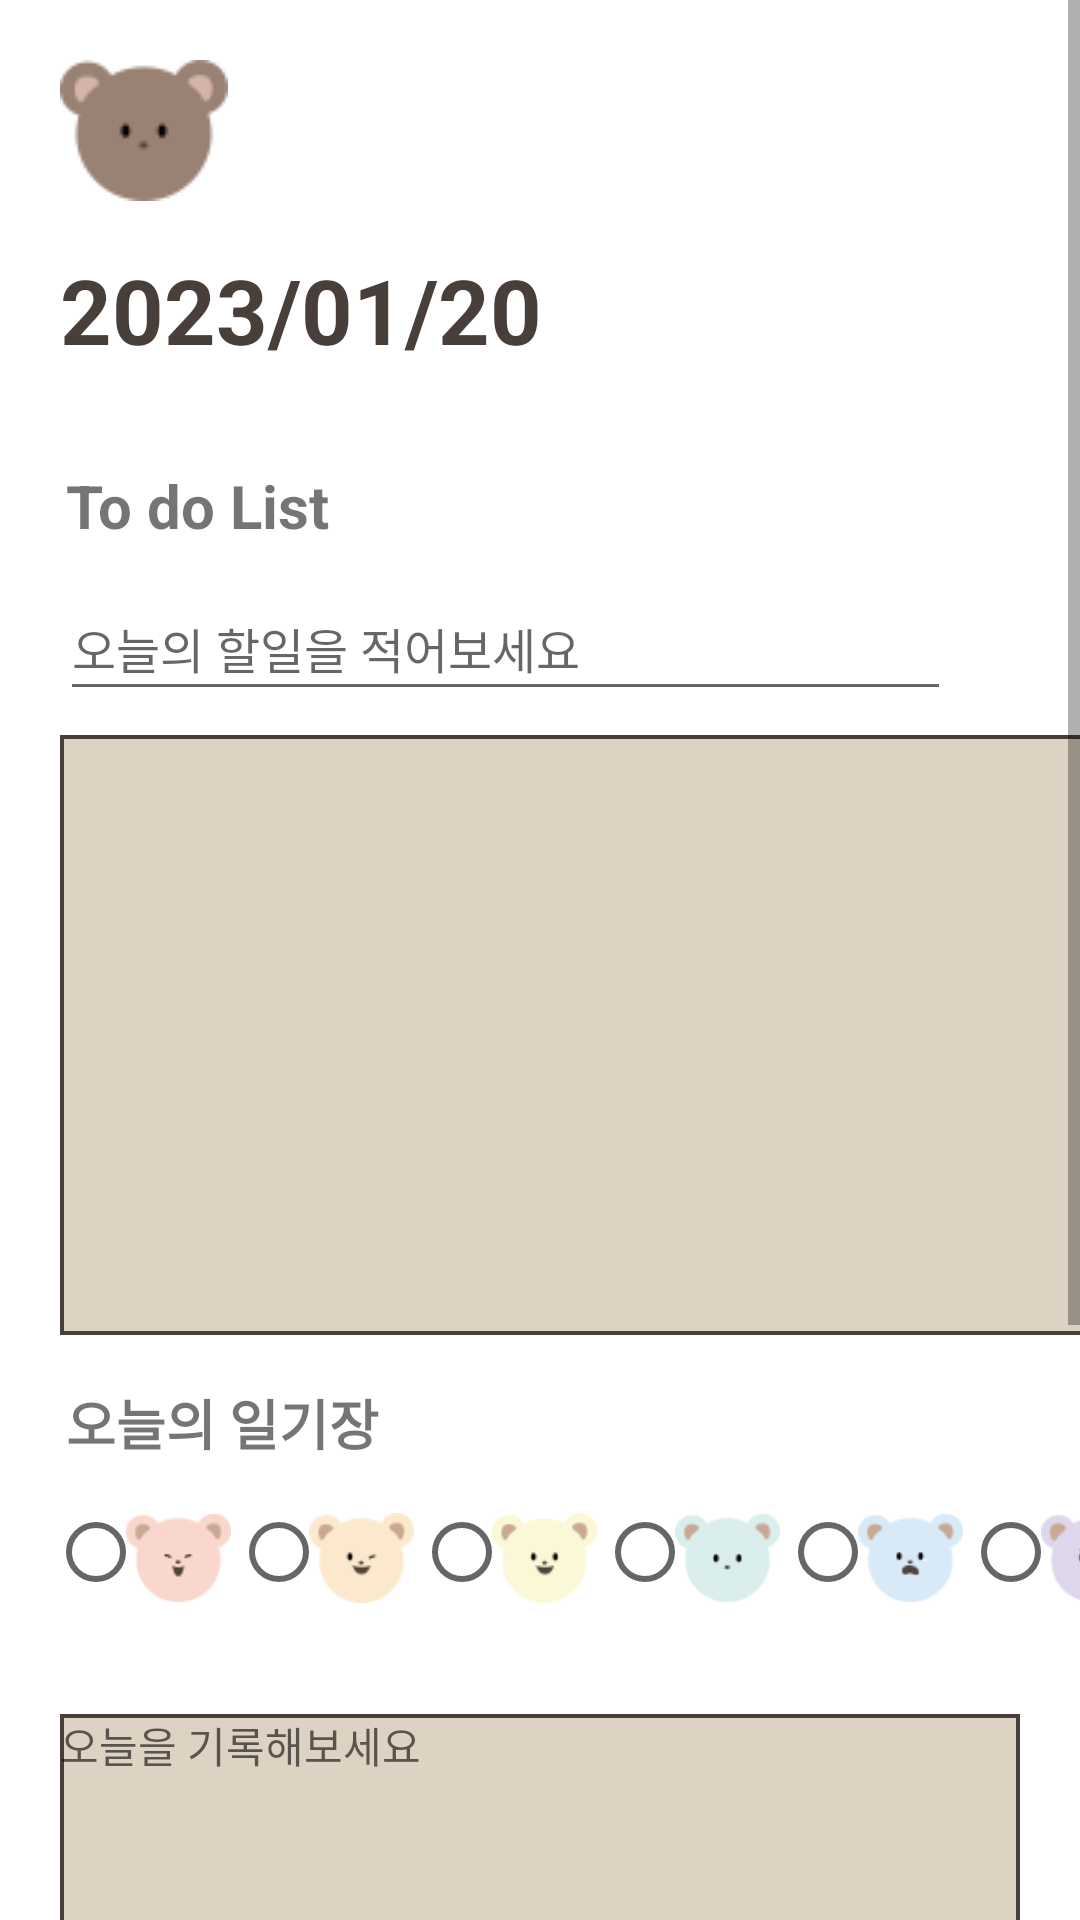

Icon click points for this 1080px x 1920px phone screenshot, format point (x, y):
emotion: point (727, 1558)
emotion fun: point (178, 1558)
emotion happy: point (544, 1558)
emotion sad: point (910, 1558)
emotion wink: point (361, 1558)
upuibear: point (144, 130)
